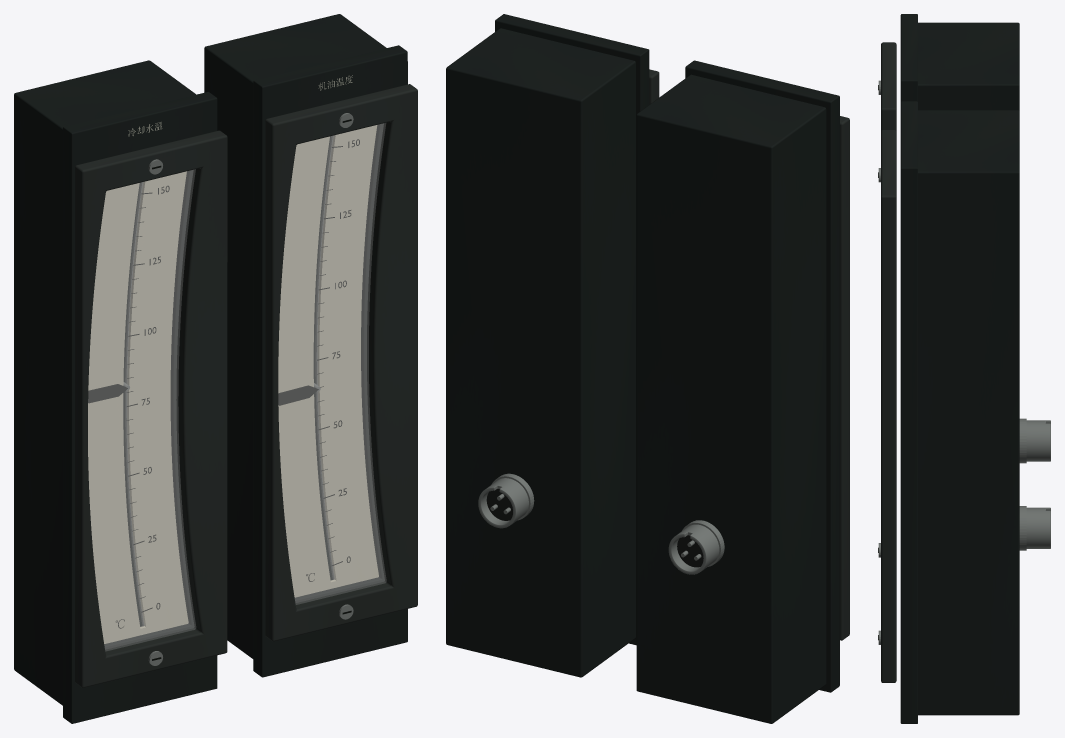
File: water_oil_temperature_gauges_study.glb
The picture shows the model from 3 angles, left to right: view 1: azimuth 30°, elevation 25°; view 2: azimuth 150°, elevation 25°; view 3: azimuth 270°, elevation 25°; orthographic projection. The views are drawn at different scales.
Parts seen in each view (by area): view 1: Water_Fixed_Protective_Glass, Oil_Fixed_Protective_Glass, Water_Fixed_Raised_Metal_Bezel, Oil_Fixed_Raised_Metal_Bezel, Water_Fixed_Scale_Window, Oil_Fixed_Scale_Window, Water_Fixed_Rear_Housing, Oil_Fixed_Rear_Housing, Oil_Fixed_Front_Frame, Water_Fixed_Front_Frame, Oil_Fixed_Curved_Guide_Rail.001, Water_Fixed_Curved_Guide_Rail.001; view 2: Water_Fixed_Rear_Housing, Oil_Fixed_Rear_Housing, Water_Fixed_Front_Frame, Water_Fixed_Raised_Metal_Bezel, Oil_Fixed_Front_Frame, Water_RPM_Connector_Shell, Oil_RPM_Connector_Shell; view 3: Oil_Fixed_Rear_Housing, Oil_Fixed_Front_Frame, Water_Fixed_Rear_Housing, Oil_Fixed_Raised_Metal_Bezel, Water_Fixed_Front_Frame, Water_Fixed_Raised_Metal_Bezel, Water_RPM_Connector_Shell, Oil_RPM_Connector_Shell, Water_RPM_Rear_Connector_Seat, Oil_RPM_Rear_Connector_Seat.
Part boxes in pixels (x1,y1,x2,y2): Water_Fixed_Protective_Glass: (88,169,195,650); Oil_Fixed_Protective_Glass: (278,123,386,604); Water_Fixed_Raised_Metal_Bezel: (75,130,227,687); Oil_Fixed_Raised_Metal_Bezel: (265,84,417,641); Water_Fixed_Scale_Window: (88,171,188,643); Oil_Fixed_Scale_Window: (278,125,378,597); Water_Fixed_Rear_Housing: (14,60,195,705); Oil_Fixed_Rear_Housing: (204,14,386,658); Oil_Fixed_Front_Frame: (253,45,407,677); Water_Fixed_Front_Frame: (63,92,217,723); Oil_Fixed_Curved_Guide_Rail.001: (315,136,334,579); Water_Fixed_Curved_Guide_Rail.001: (125,182,144,626); Water_Fixed_Rear_Housing: (636,74,826,723); Oil_Fixed_Rear_Housing: (446,28,635,677); Water_Fixed_Front_Frame: (685,60,839,692); Water_Fixed_Raised_Metal_Bezel: (840,116,849,640); Oil_Fixed_Front_Frame: (495,14,649,645); Water_RPM_Connector_Shell: (668,524,719,574); Oil_RPM_Connector_Shell: (478,478,528,528); Oil_Fixed_Rear_Housing: (918,110,1019,715); Oil_Fixed_Front_Frame: (900,101,917,723); Water_Fixed_Rear_Housing: (918,22,1019,110); Oil_Fixed_Raised_Metal_Bezel: (881,130,896,682); Water_Fixed_Front_Frame: (900,14,917,102); Water_Fixed_Raised_Metal_Bezel: (881,42,896,131); Water_RPM_Connector_Shell: (1026,420,1050,461); Oil_RPM_Connector_Shell: (1026,507,1050,548); Water_RPM_Rear_Connector_Seat: (1019,418,1026,463); Oil_RPM_Rear_Connector_Seat: (1019,506,1026,550).
Size of the model in its own units: 0.106 by 0.178 by 0.0501.
9 materials, 3 textured.
